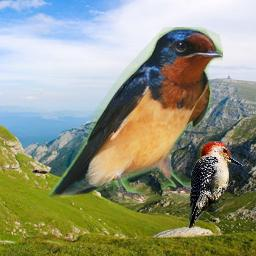Swallow: (47, 27, 223, 203)
Woodpecker: (189, 141, 245, 228)
